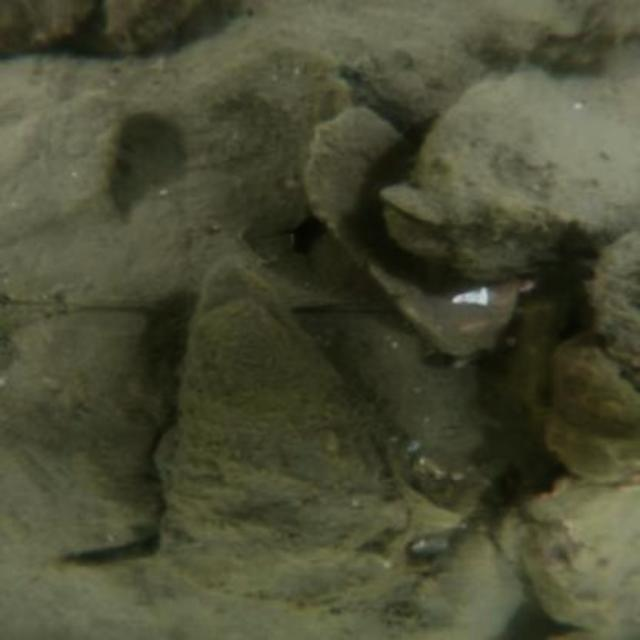Oyster-Closed: (163, 257, 402, 595), (295, 103, 520, 367), (408, 73, 636, 281), (7, 313, 166, 556), (210, 2, 479, 120), (519, 486, 638, 637), (378, 523, 514, 628), (580, 231, 638, 400), (102, 0, 208, 50), (16, 5, 93, 56)
